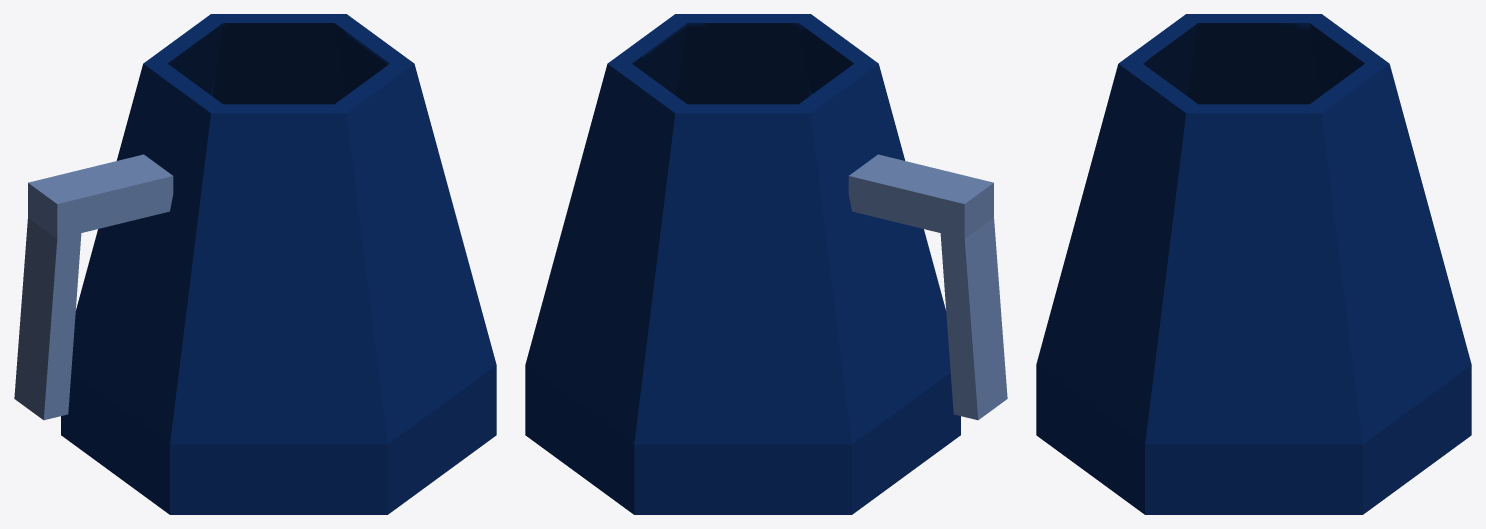
Rendered from cup.obj.
3 renders of one model, left to right at view 1: azimuth 30°, elevation 25°; view 2: azimuth 150°, elevation 25°; view 3: azimuth 270°, elevation 25°, orthographic.
Visible parts, largest first — view 1: Cylinder.003, Cube.007; view 2: Cylinder.003, Cube.007; view 3: Cylinder.003.
Part boxes in pixels (<box>): Cylinder.003: <box>61,14,496,514</box>; Cube.007: <box>14,154,173,420</box>; Cylinder.003: <box>525,14,960,514</box>; Cube.007: <box>848,154,1007,420</box>; Cylinder.003: <box>1036,14,1471,514</box>.
Bounding box in the file's own units: 0.5308 × 0.4562 × 0.4846.
2 materials, 2 textured.
